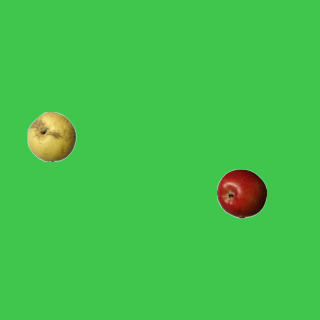Apple Braeburn: (216, 168, 266, 218)
Apple Golden 1: (26, 111, 76, 161)
